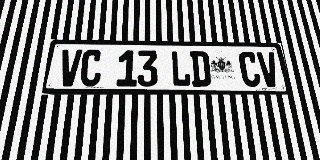1: (116, 50, 137, 87)
3: (137, 50, 157, 87)
C: (79, 50, 103, 86), (238, 51, 262, 87)
D: (190, 51, 211, 87)
L: (171, 51, 191, 87)
V: (57, 49, 82, 86), (256, 52, 281, 87)
